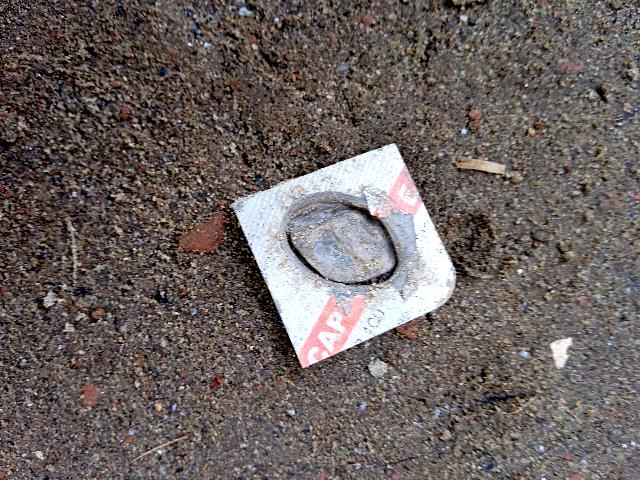medicine: (227, 122, 472, 368)
